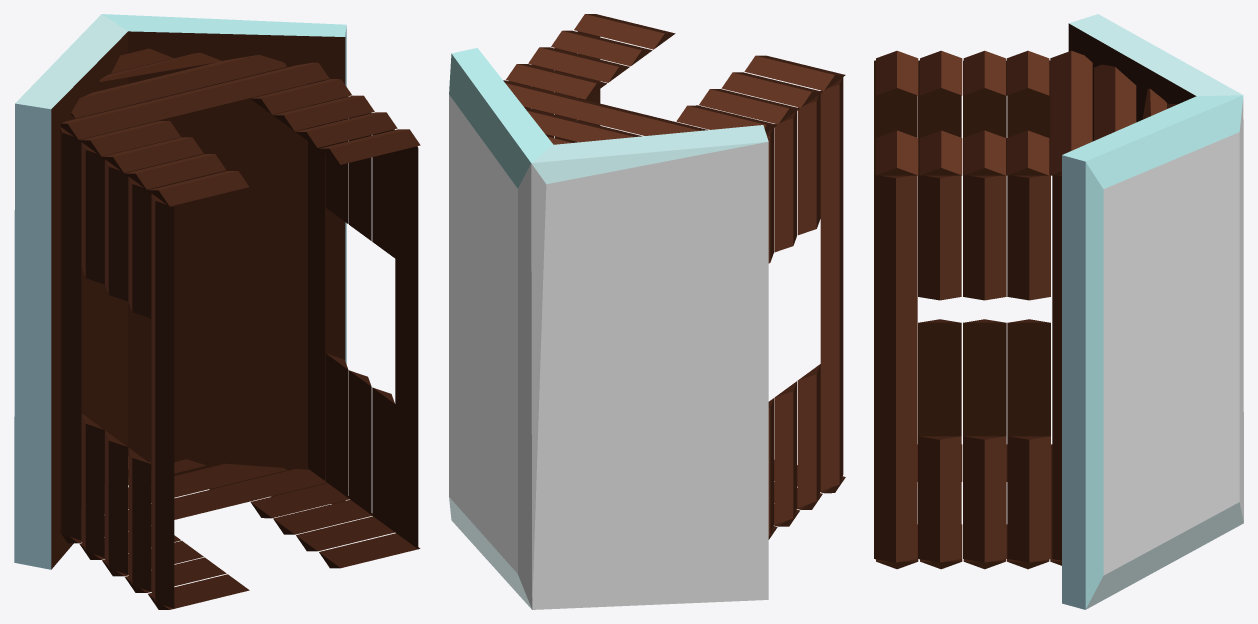
The model's file is winter_house.fbx.
The picture shows the model from 3 angles, left to right: view 1: azimuth 30°, elevation 25°; view 2: azimuth 150°, elevation 25°; view 3: azimuth 270°, elevation 25°; orthographic projection. The views are drawn at different scales.
Parts seen in each view (by area): view 1: winter_house; view 2: winter_house; view 3: winter_house.
Part boxes in pixels (left/top/right/bottom): winter_house: left=14, top=14, right=420, bottom=609; winter_house: left=449, top=14, right=845, bottom=609; winter_house: left=874, top=14, right=1243, bottom=609.
Size of the model in its own units: 97.96 by 135 by 101.
